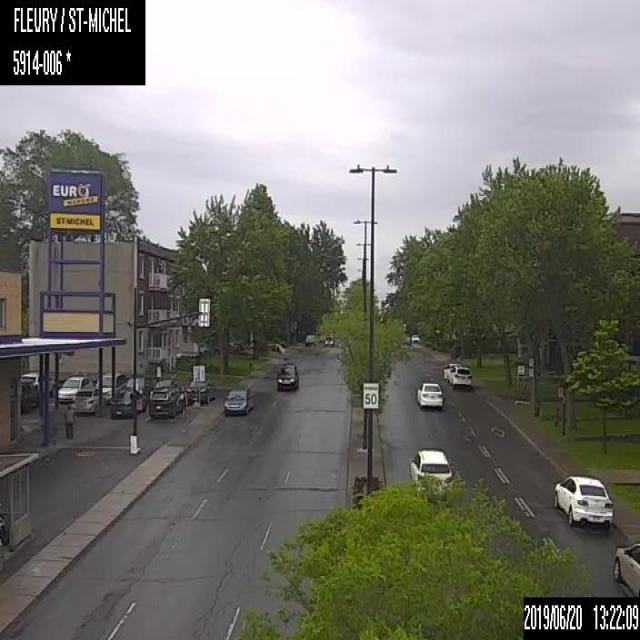vehicle: (553, 474, 613, 530), (406, 446, 452, 494), (612, 541, 639, 595), (147, 386, 185, 418), (109, 385, 146, 417), (94, 372, 126, 404), (57, 375, 92, 404), (222, 384, 254, 415), (20, 371, 55, 396), (414, 380, 442, 408), (72, 388, 102, 414), (446, 364, 472, 389), (187, 379, 215, 402), (276, 362, 298, 389), (20, 380, 38, 411), (442, 362, 460, 381), (150, 378, 179, 388), (304, 334, 314, 346), (323, 336, 333, 346), (410, 334, 419, 342)
